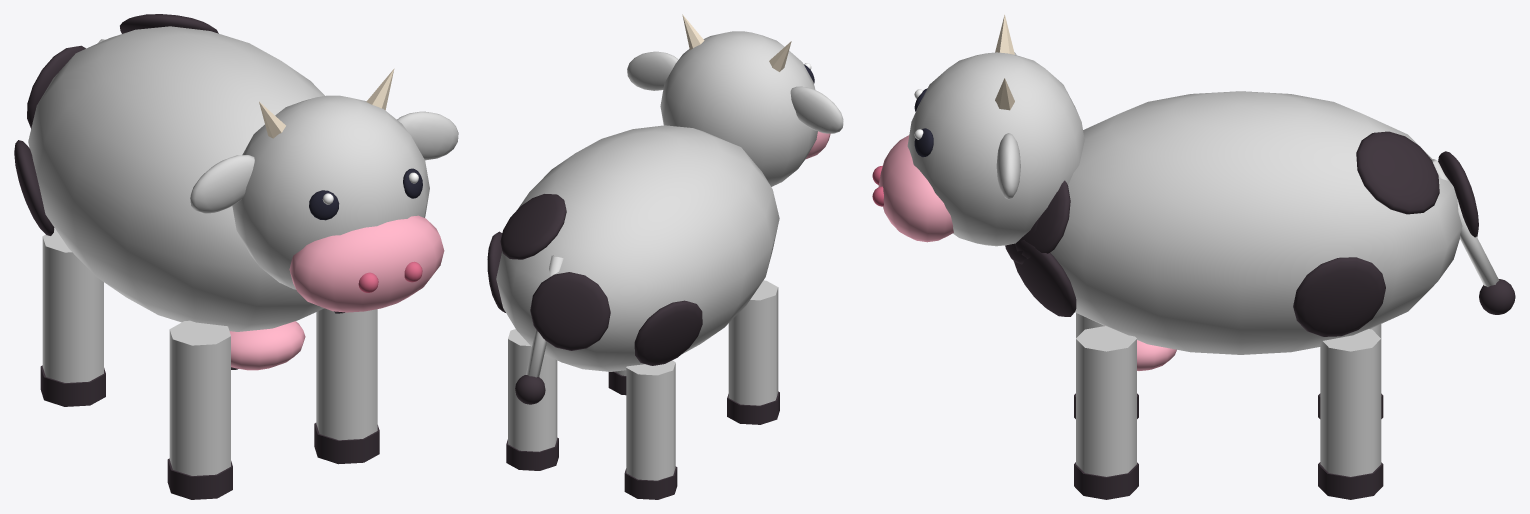
File: animal_cow.glb
The picture shows the model from 3 angles, left to right: view 1: azimuth 30°, elevation 25°; view 2: azimuth 150°, elevation 25°; view 3: azimuth 270°, elevation 25°; orthographic projection. The views are drawn at different scales.
Visible parts, largest first — view 1: body; view 2: body; view 3: body.
Boxes of the visible parts, x1=… form: body: x1=14, y1=14, x2=458, y2=499; body: x1=487, y1=14, x2=843, y2=499; body: x1=872, y1=14, x2=1515, y2=499.
Size of the model in its own units: 0.7344 by 1.1 by 1.58.
